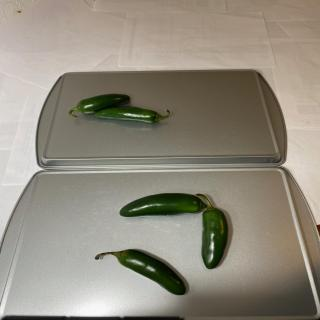Chilli: (119, 192, 229, 269), (94, 248, 187, 296)
Tomato: (196, 193, 228, 269), (68, 93, 130, 118), (94, 106, 170, 123)
